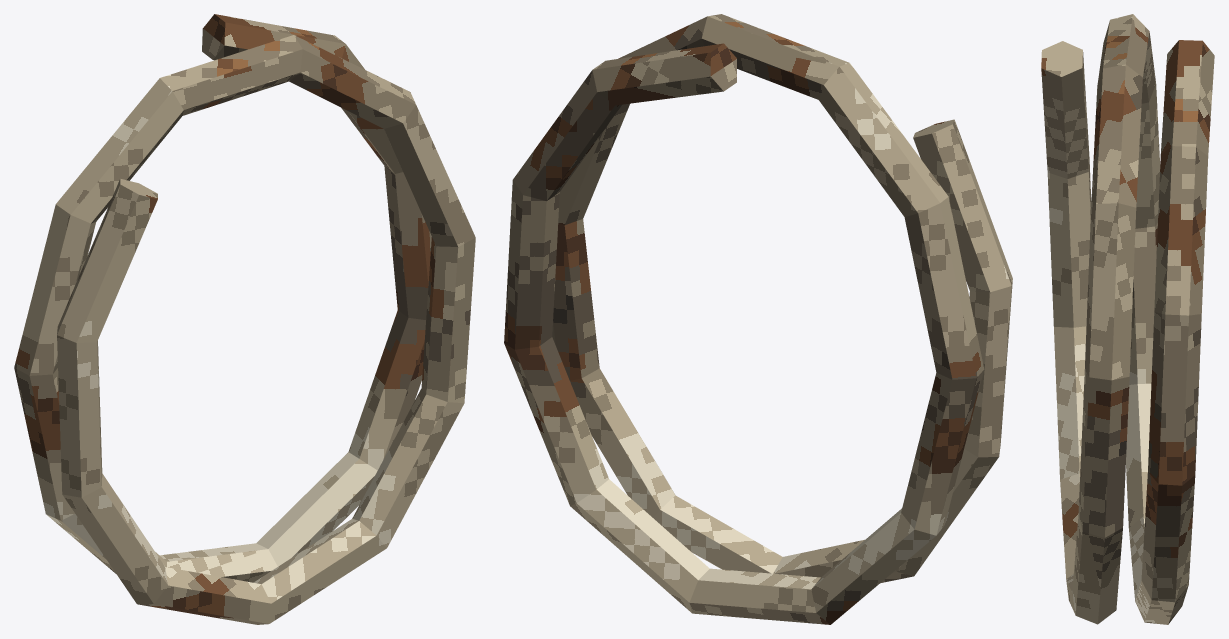
Rendered from SM_Prop_LobbyRopeCoil_01.glb.
3 views of the same model, side by side, from view 1: azimuth 30°, elevation 25°; view 2: azimuth 150°, elevation 25°; view 3: azimuth 270°, elevation 25° (orthographic). The views are drawn at different scales.
Visible parts, largest first — view 1: rope; view 2: rope; view 3: rope.
Boxes of the visible parts, bbox=[...] form: rope: bbox=[14, 14, 475, 624]; rope: bbox=[504, 14, 1012, 624]; rope: bbox=[1041, 14, 1214, 624].
Bounding box in the file's own units: 0.2592 × 0.3197 × 0.0875.
1 material, 1 textured.
